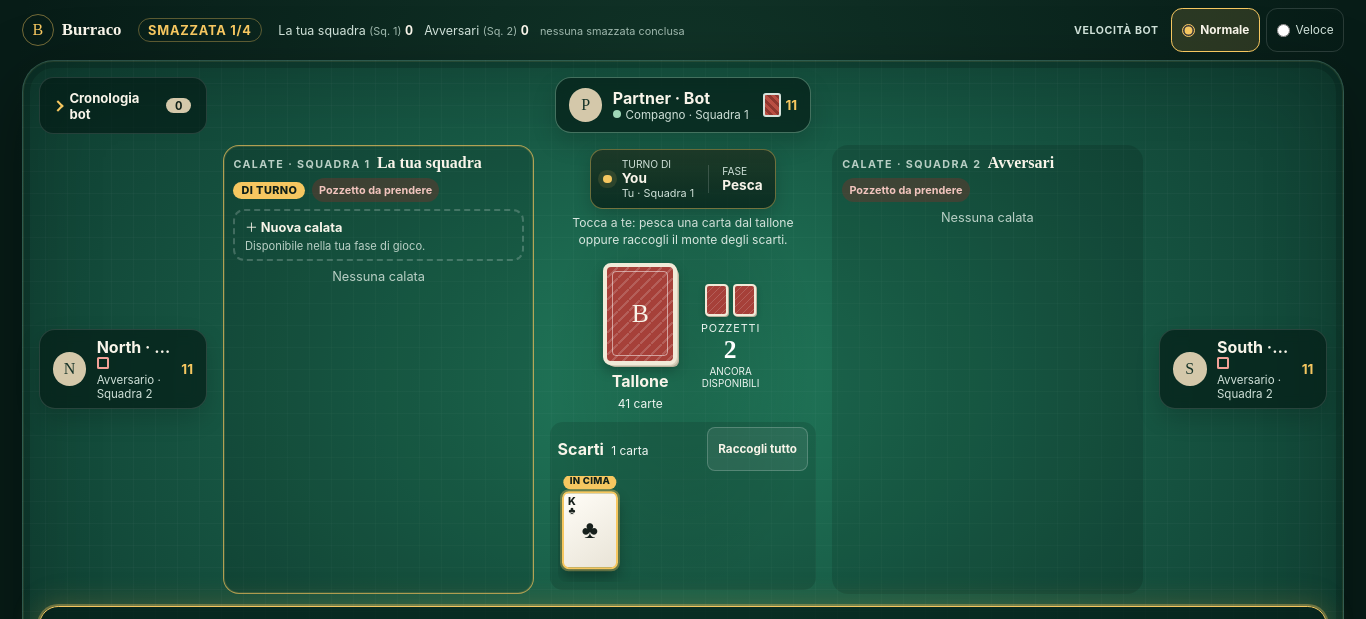
Test: GameTable M24 visual feedback › cues the discard source and the whole hand after collecting the pile, without per-card cues
Click the button with aria-label "Raccogli tutto il monte degli scarti" at (758, 449), box left=707, top=427, right=808, bottom=471
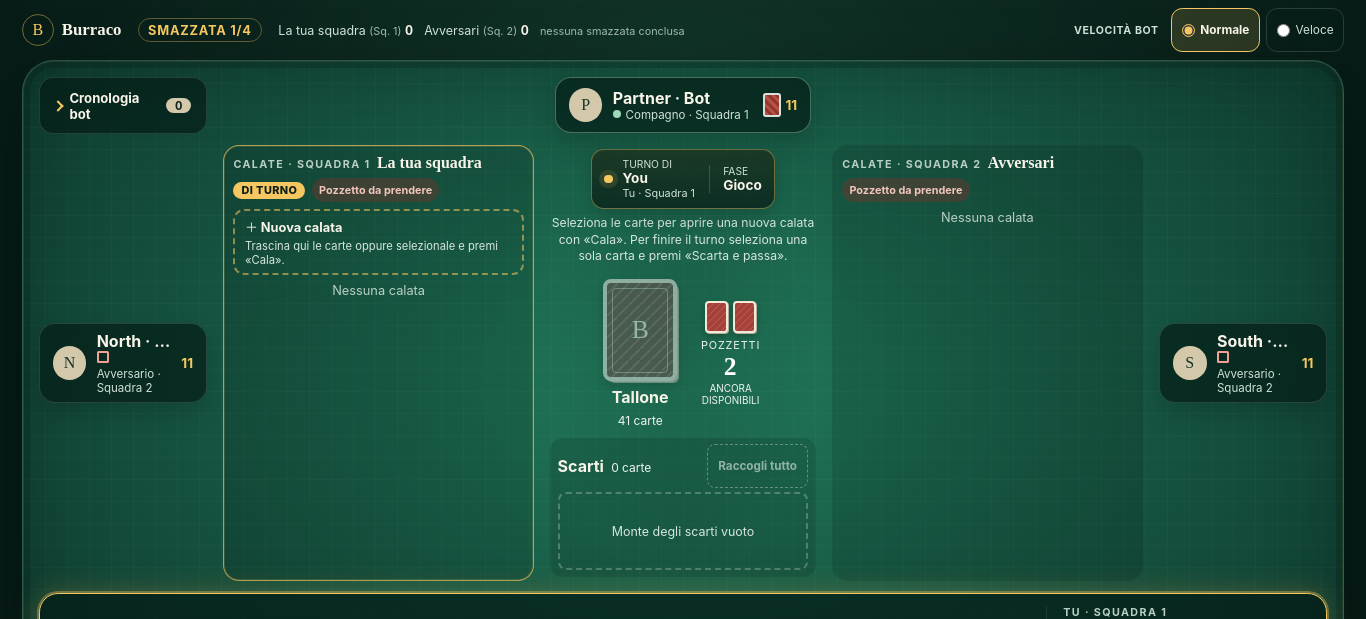
expect the button with aria-label "Raccogli tutto il monte degli scarti" is disabled: met, box left=707, top=444, right=808, bottom=488
expect the text "Monte degli scarti vuoto" is shown: met, box left=558, top=492, right=808, bottom=570
